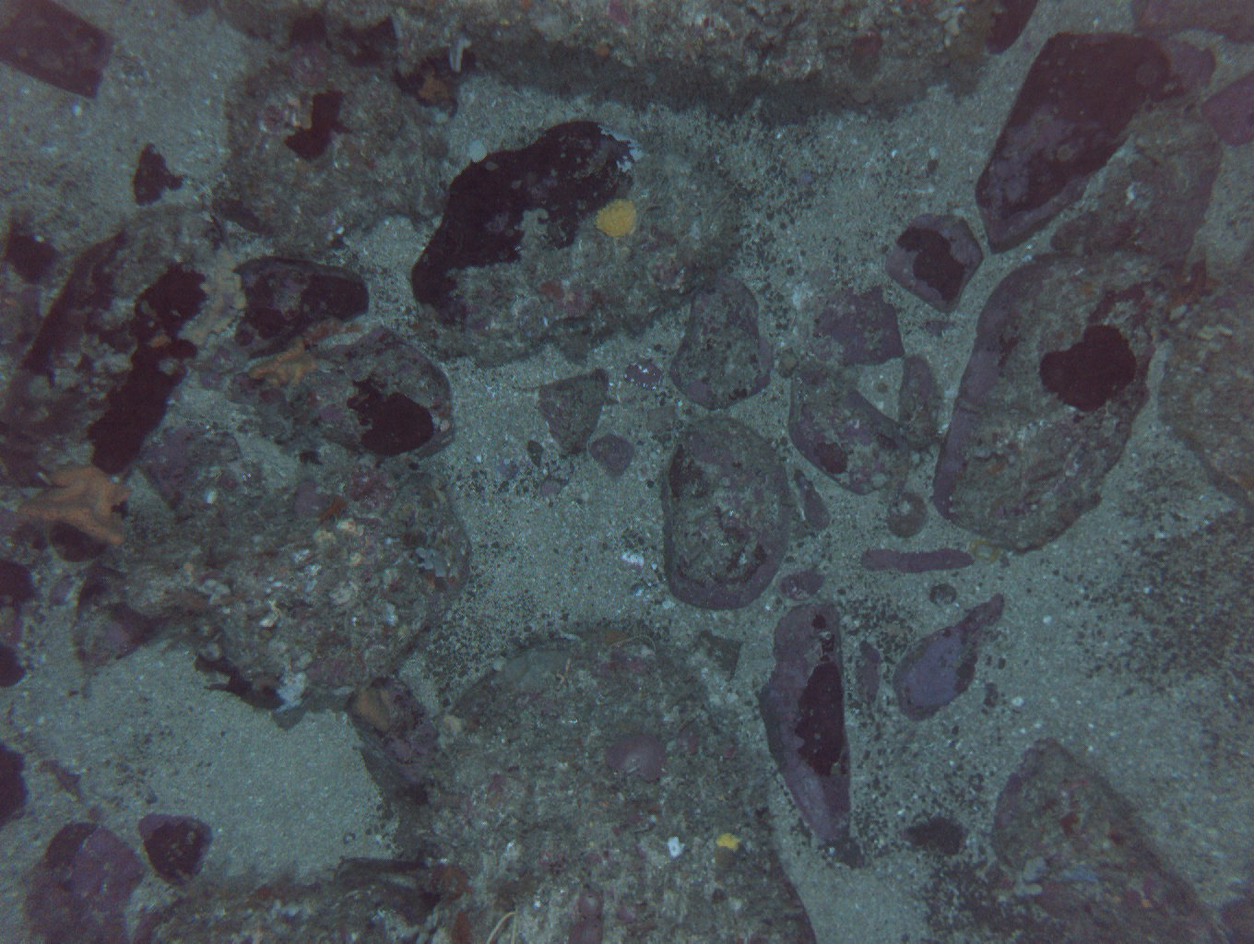Brachionichthyidae: (1169, 259, 1224, 308)
